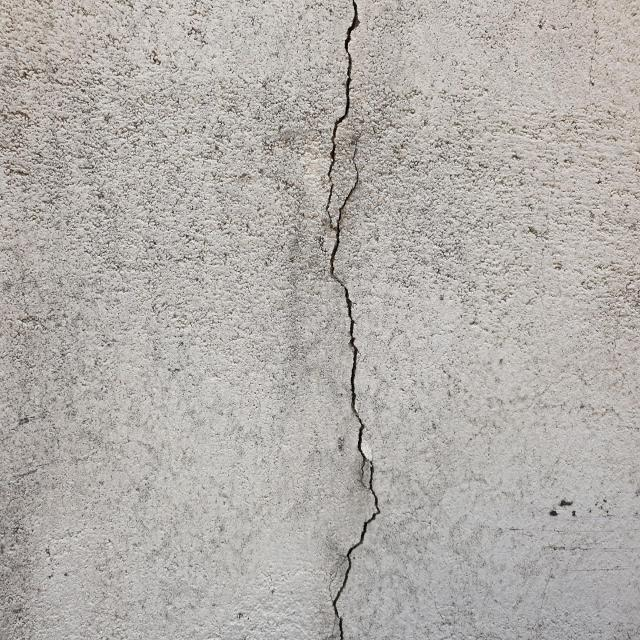SurfaceCrack: (282, 1, 414, 640)
